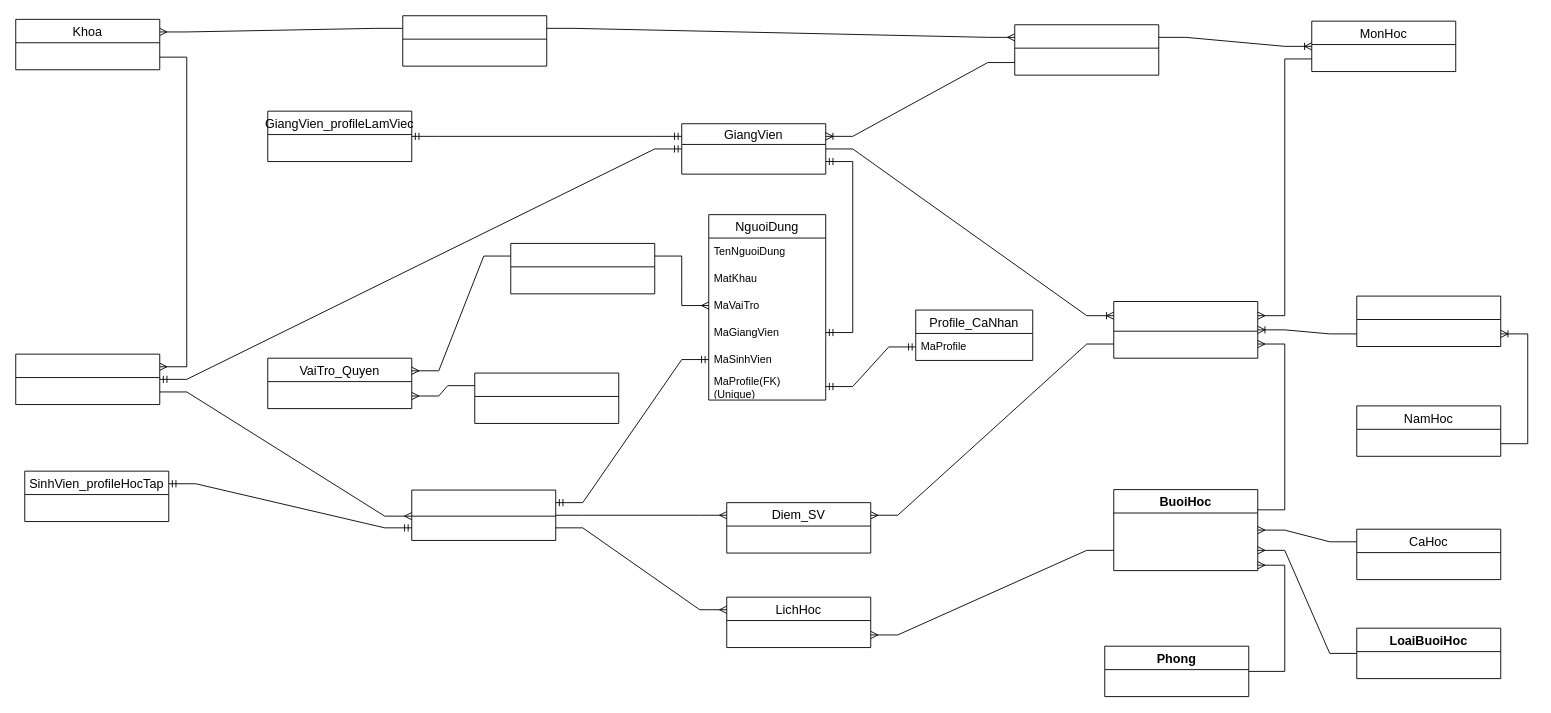
Some shapes in this 1551 by 713 pixel diagram are drawn without their labels. The shapes that lost their labels are listed below. From the top down, each one's box as (x1, y1, x2, y2) in pixels, then its label:
(402, 15, 547, 66): Khoa_BoMon
(1014, 24, 1159, 75): BoMon
(510, 243, 655, 294): VaiTro
(1113, 301, 1258, 358): LopMonHoc
(1356, 295, 1501, 346): HocKi
(15, 353, 160, 405): LopQL
(474, 372, 619, 423): Quyen
(411, 489, 556, 540): SinhVien
